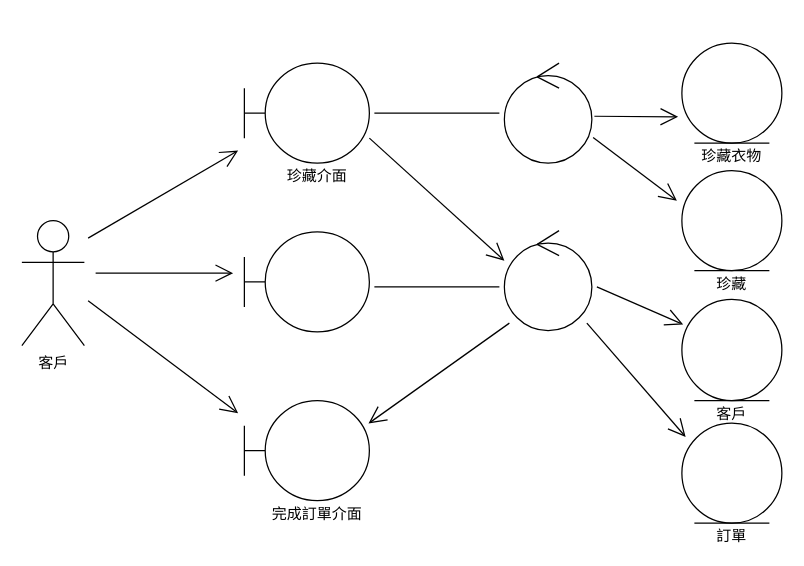
The diagram is 804 pixels wide and 566 high, and some of its shapes have lost their labels. The shapes that lost their labels are listed below. From the top down, each one's centre as x and y in pixels, then its label:
[547,112]: 珍藏控制
[306,281]: 租借訂單介面
[547,280]: 訂單控制
